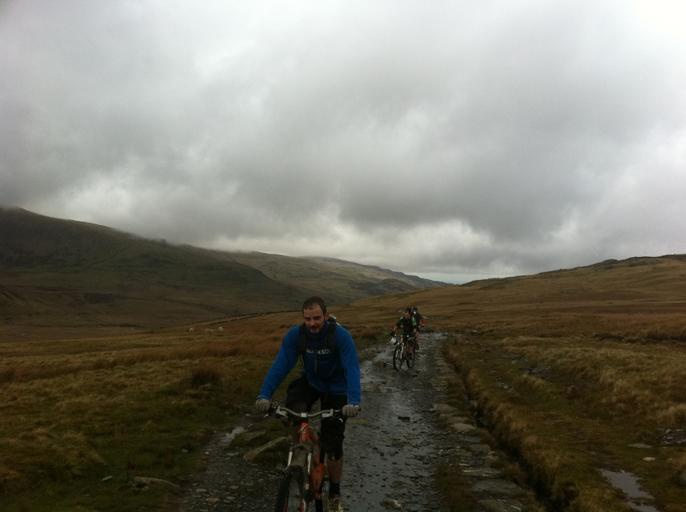non-vehicle: (262, 401, 361, 511), (390, 332, 416, 372)
